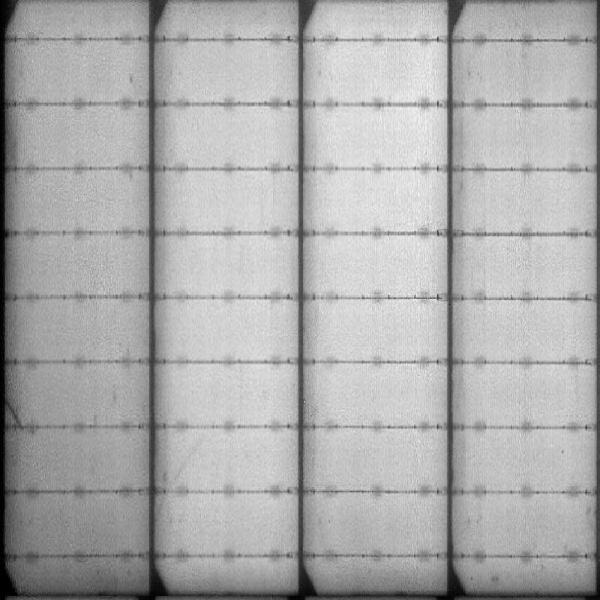scratch: (7, 391, 25, 425)
